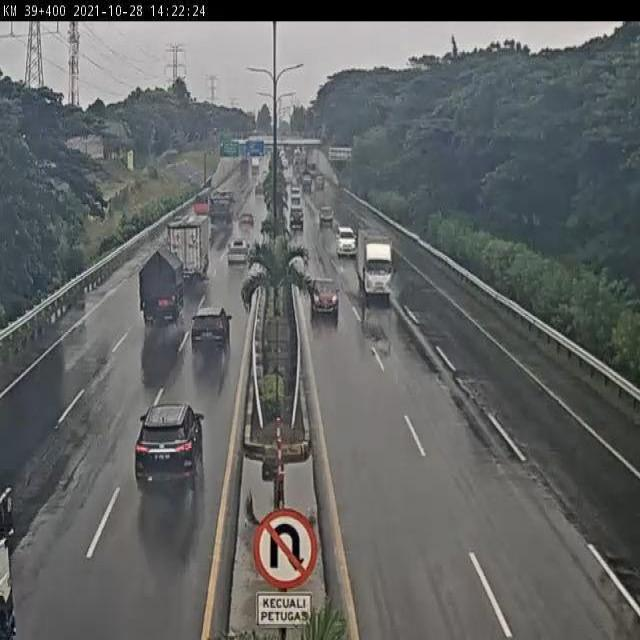car: (133, 401, 206, 487), (189, 306, 231, 358), (309, 271, 338, 312), (225, 239, 249, 272), (237, 208, 255, 231)
truck-l-: (164, 221, 208, 287), (208, 189, 237, 228)
truck-m-: (136, 250, 187, 322)
truck-s-: (353, 231, 394, 297), (194, 190, 212, 222)
